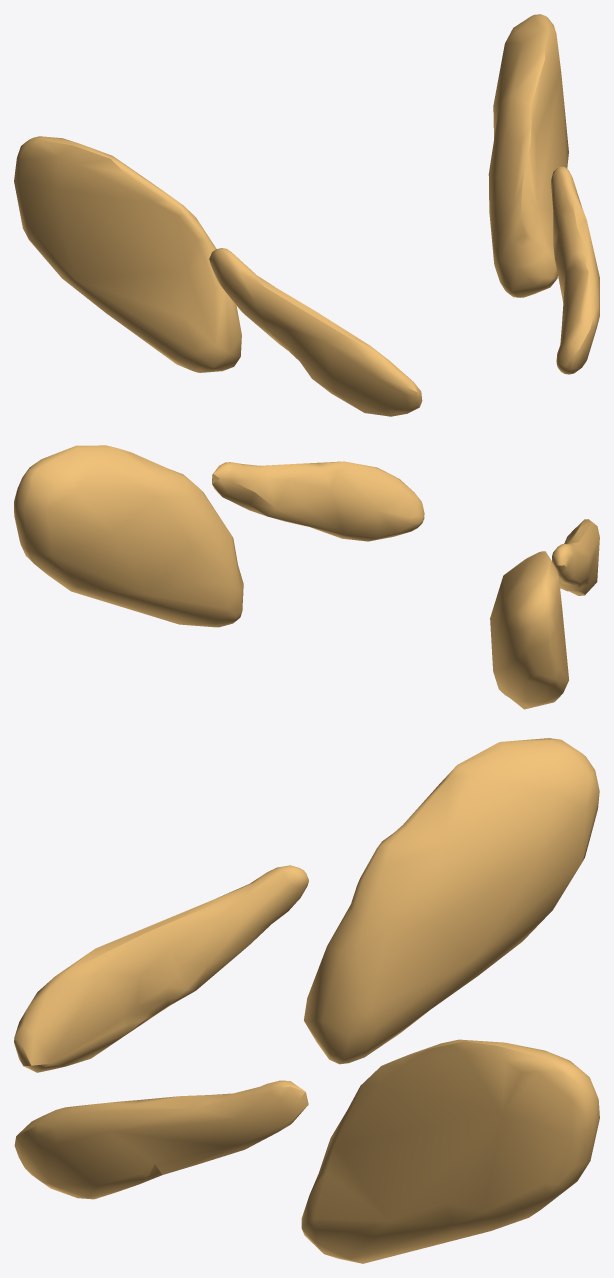
File: glandulas-salivares.glb
3 views of the same model, one above another, from view 1: azimuth 30°, elevation 25°; view 2: azimuth 150°, elevation 25°; view 3: azimuth 270°, elevation 25° (orthographic). The views are drawn at different scales.
Visible parts, largest first — view 1: glandulas-salivares; view 2: glandulas-salivares; view 3: glandulas-salivares.
Boxes of the visible parts, <box> form: glandulas-salivares: <box>14,14,599,416</box>; glandulas-salivares: <box>14,445,599,709</box>; glandulas-salivares: <box>14,738,599,1263</box>.
Bounding box in the file's own units: 0.0618 × 0.0224 × 0.045.
